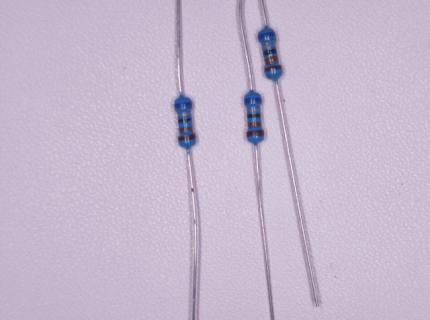Black band: (263, 48, 277, 56), (178, 118, 192, 124), (247, 113, 261, 119)
Blue band: (258, 32, 276, 40), (174, 102, 192, 109), (244, 97, 262, 103)
Brown band: (264, 64, 283, 73), (247, 129, 264, 138), (178, 134, 197, 142)
Grey band: (262, 42, 276, 50), (177, 112, 191, 117), (246, 108, 260, 112)
Orange band: (264, 56, 279, 65), (248, 122, 262, 128), (180, 127, 194, 133)
